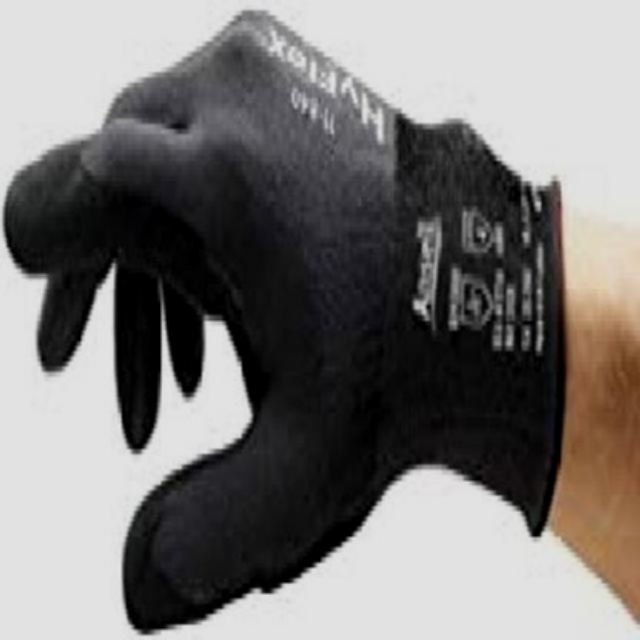gloves: (4, 1, 569, 635)
